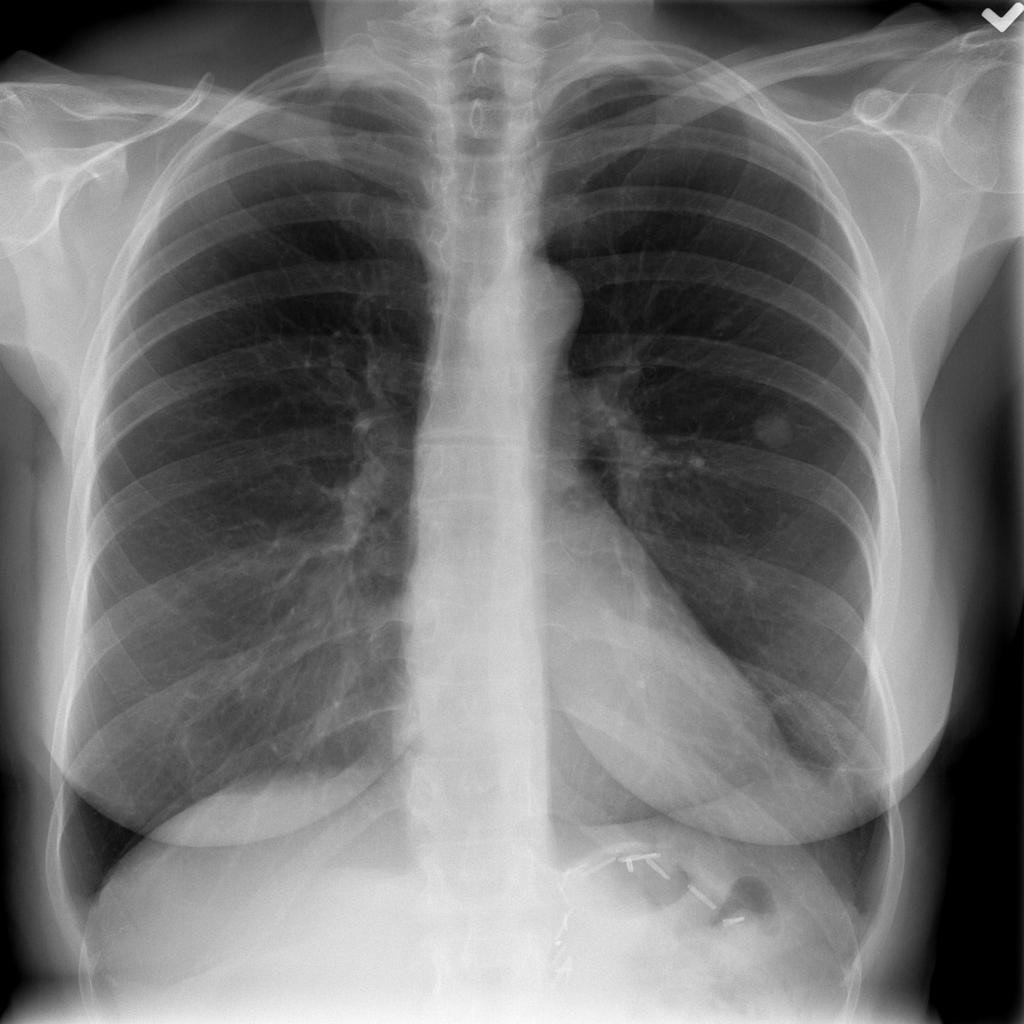nodule: (735, 394, 809, 464), (699, 299, 751, 348)
